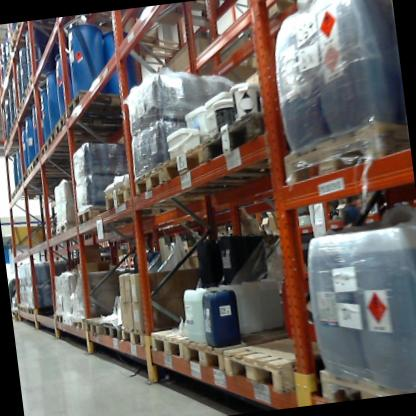pallet: (278, 109, 412, 195), (127, 144, 273, 219), (199, 99, 324, 176), (159, 132, 288, 206), (218, 331, 351, 402), (179, 325, 307, 380), (95, 167, 209, 226), (100, 21, 201, 79), (310, 351, 416, 403), (62, 80, 140, 128), (28, 143, 106, 188), (37, 132, 111, 175), (42, 123, 116, 161), (82, 307, 145, 350), (50, 105, 128, 137), (143, 323, 194, 364), (71, 201, 135, 231), (15, 16, 71, 42), (22, 156, 66, 186), (116, 317, 154, 350), (25, 70, 56, 93), (24, 299, 59, 317), (4, 121, 31, 143), (16, 97, 46, 115), (7, 185, 38, 202), (6, 35, 38, 50), (10, 114, 38, 131), (54, 216, 79, 235), (21, 83, 44, 103), (100, 319, 121, 340), (20, 169, 46, 185), (16, 175, 39, 193), (69, 306, 84, 332), (12, 310, 27, 325), (50, 307, 63, 322), (61, 312, 72, 328), (18, 302, 30, 313)
